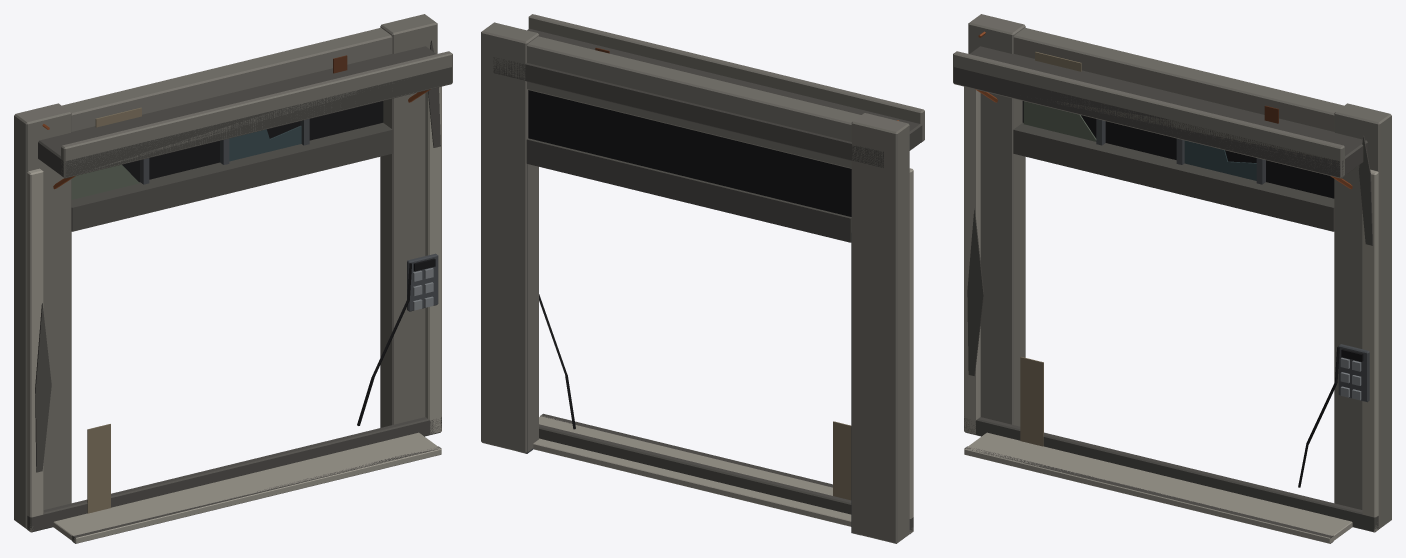
The model's file is bld_apt_entrance.fbx.
3 views of the same model, side by side, from view 1: azimuth 30°, elevation 25°; view 2: azimuth 150°, elevation 25°; view 3: azimuth 330°, elevation 25° (orthographic).
Parts seen in each view (by area): view 1: bld_apt_entrance; view 2: bld_apt_entrance; view 3: bld_apt_entrance.
Part boxes in pixels (left/top/right/bottom): bld_apt_entrance: left=14, top=14, right=452, bottom=543; bld_apt_entrance: left=481, top=14, right=924, bottom=543; bld_apt_entrance: left=953, top=14, right=1391, bottom=543.
Size of the model in its own units: 3.6 by 3.4 by 0.6.
